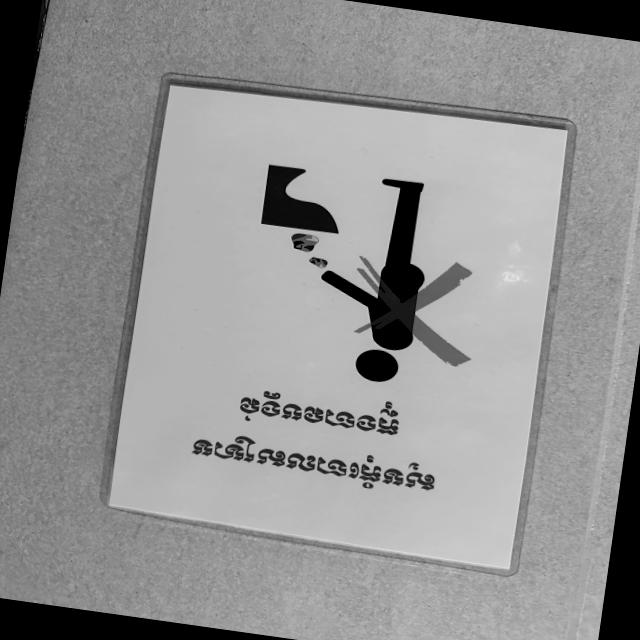Yolov11kh: (184, 425, 446, 503), (221, 377, 418, 451)
